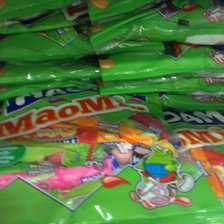candy: (2, 90, 181, 221), (97, 4, 221, 89), (163, 99, 224, 207)
